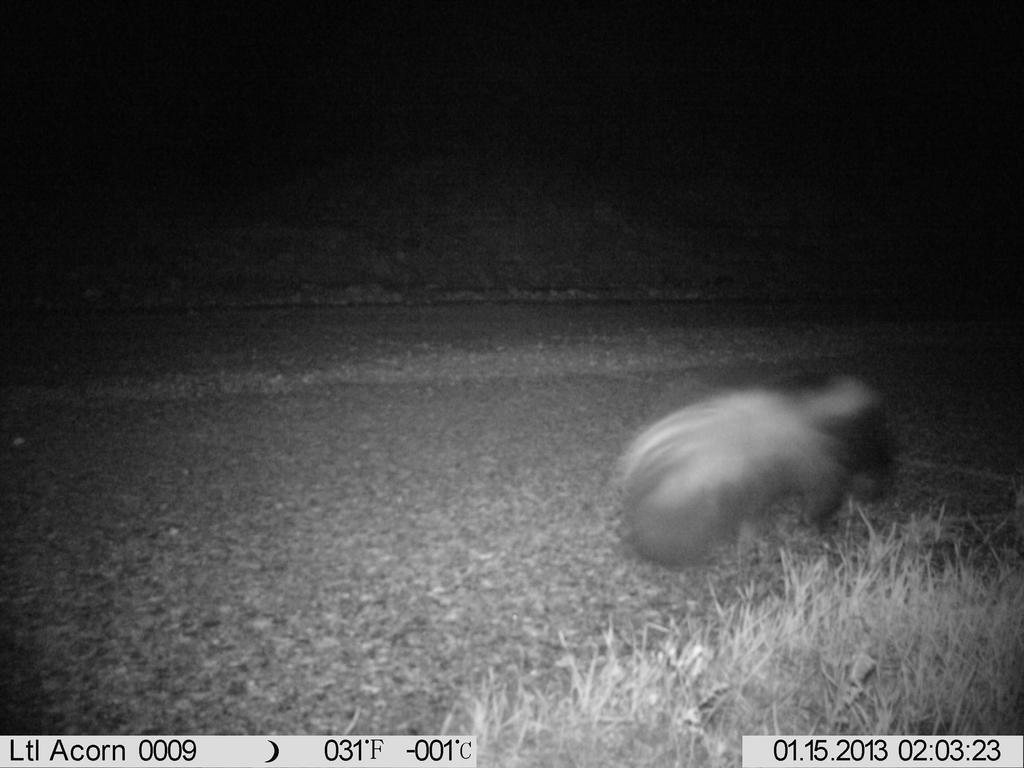skunk: (611, 367, 908, 575)
